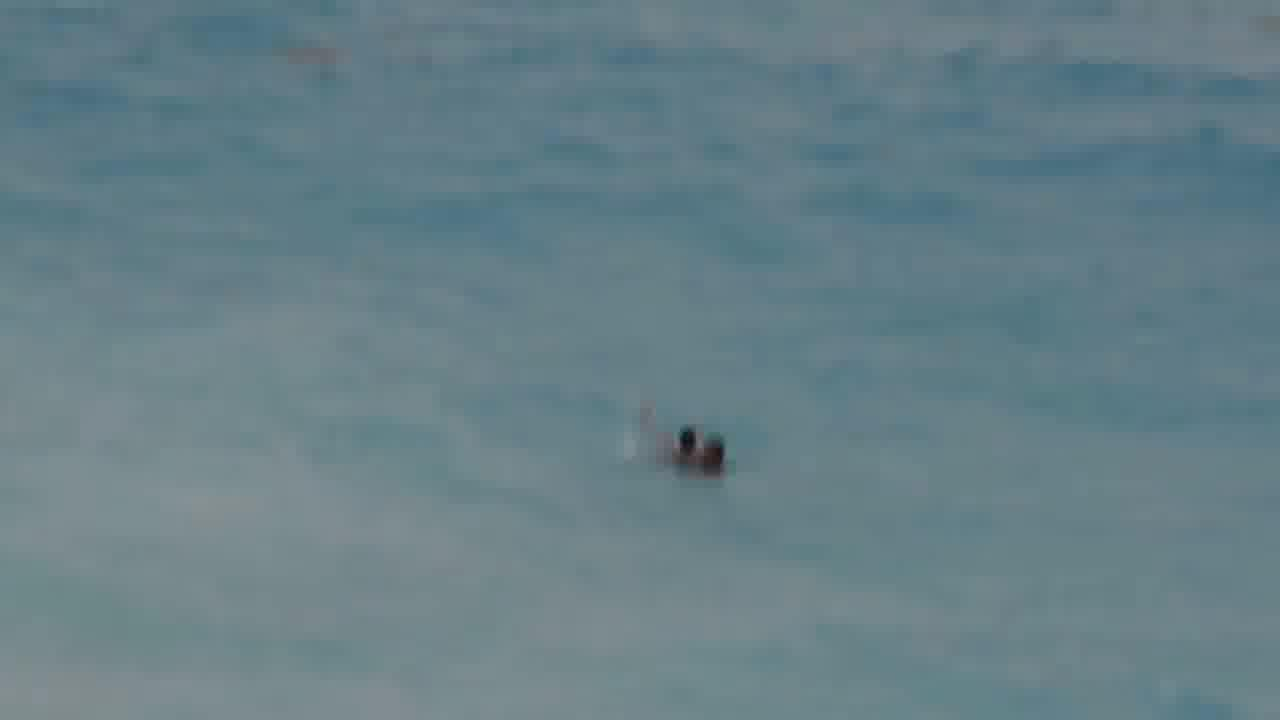human: (630, 398, 699, 470), (692, 420, 743, 485)
